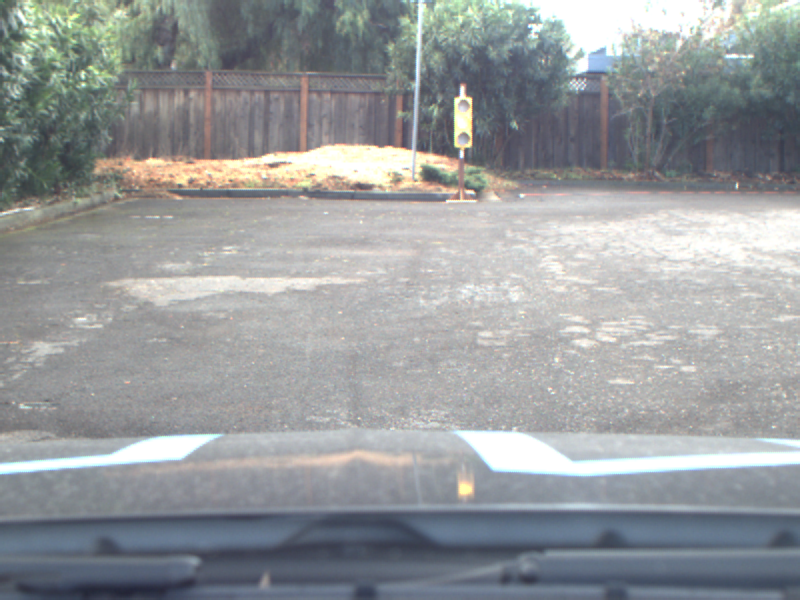Yellow: (454, 96, 471, 148)
